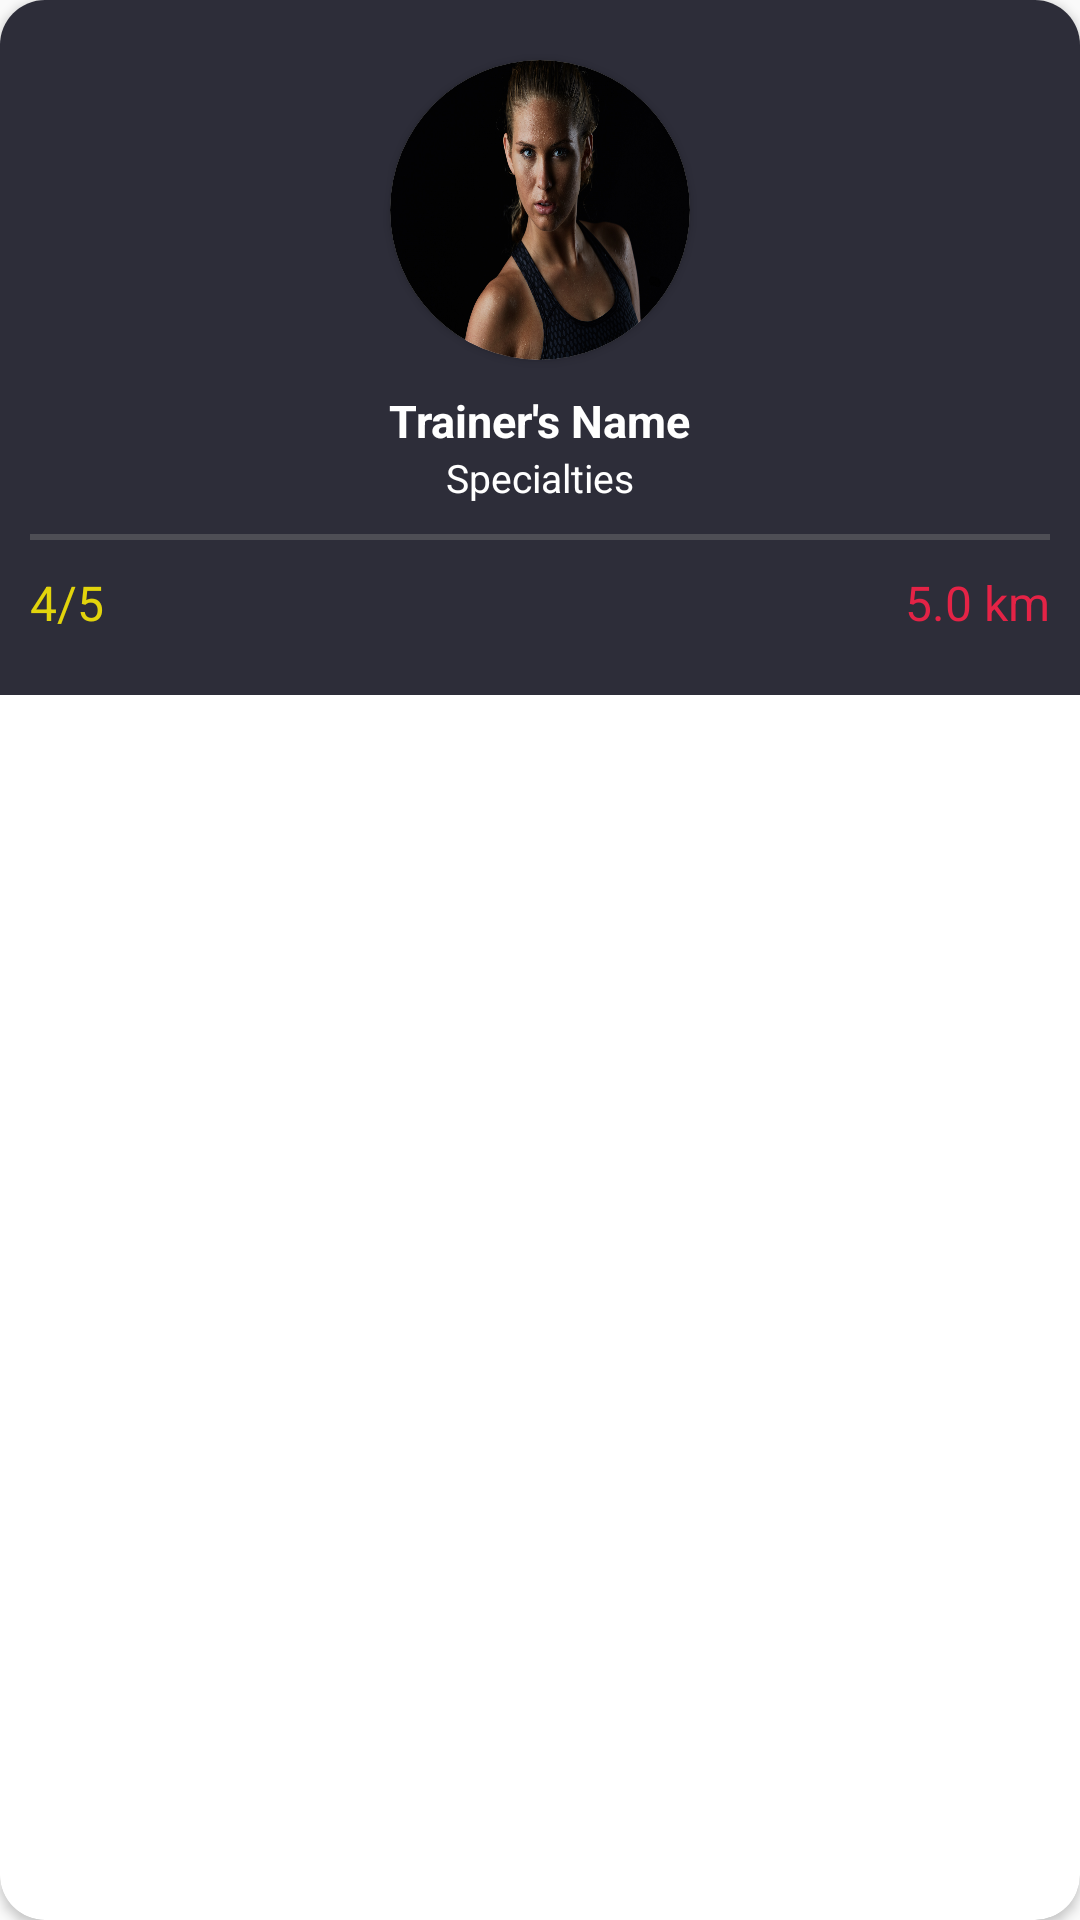

Screen size 1080*1920. Icon name, then its center in pixels as [x,y]:
personal trainer: [540,210]
